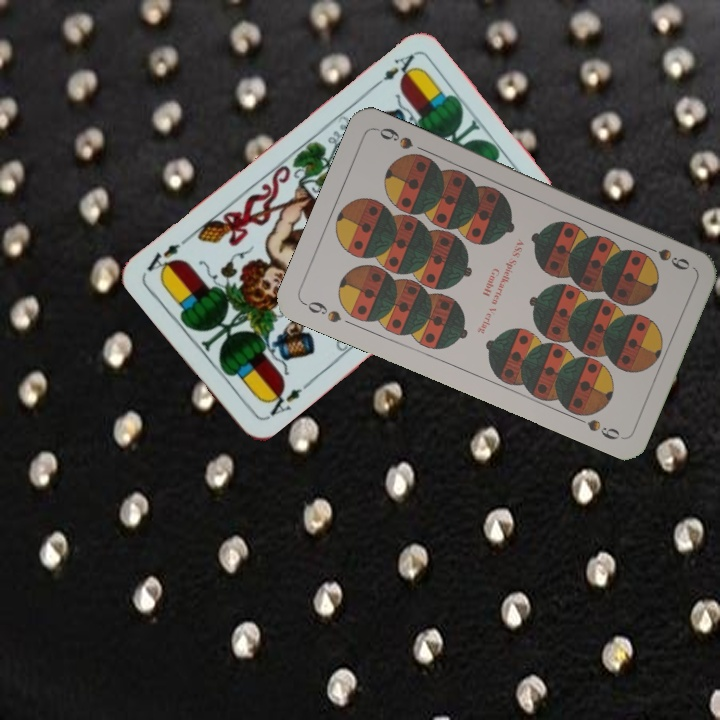EA: (260, 379, 312, 422), (368, 50, 419, 92)
S9: (638, 240, 693, 273), (299, 297, 344, 326)
